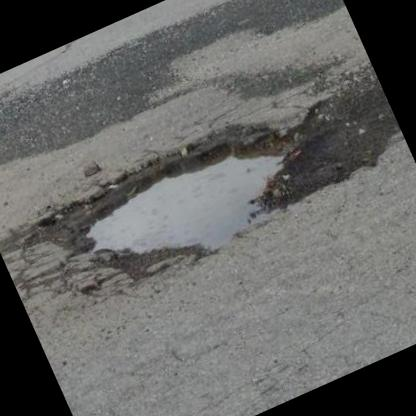pothole: (26, 90, 328, 314)
